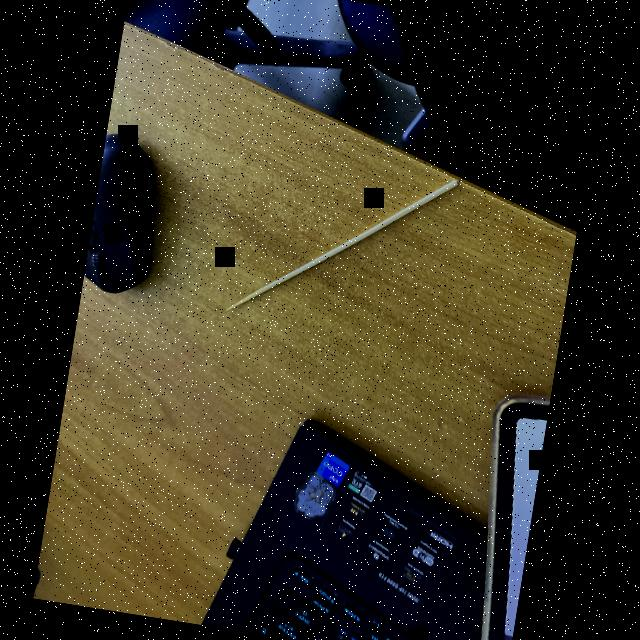stick: (212, 124, 483, 361)
